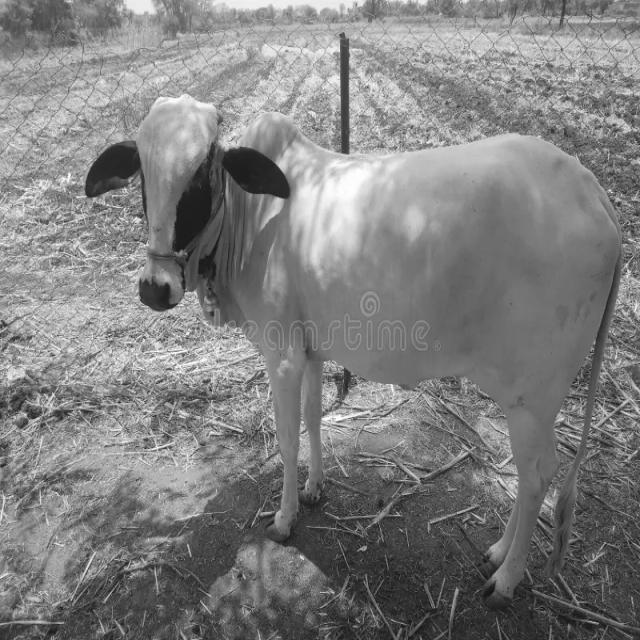Cow: (84, 91, 623, 611)
